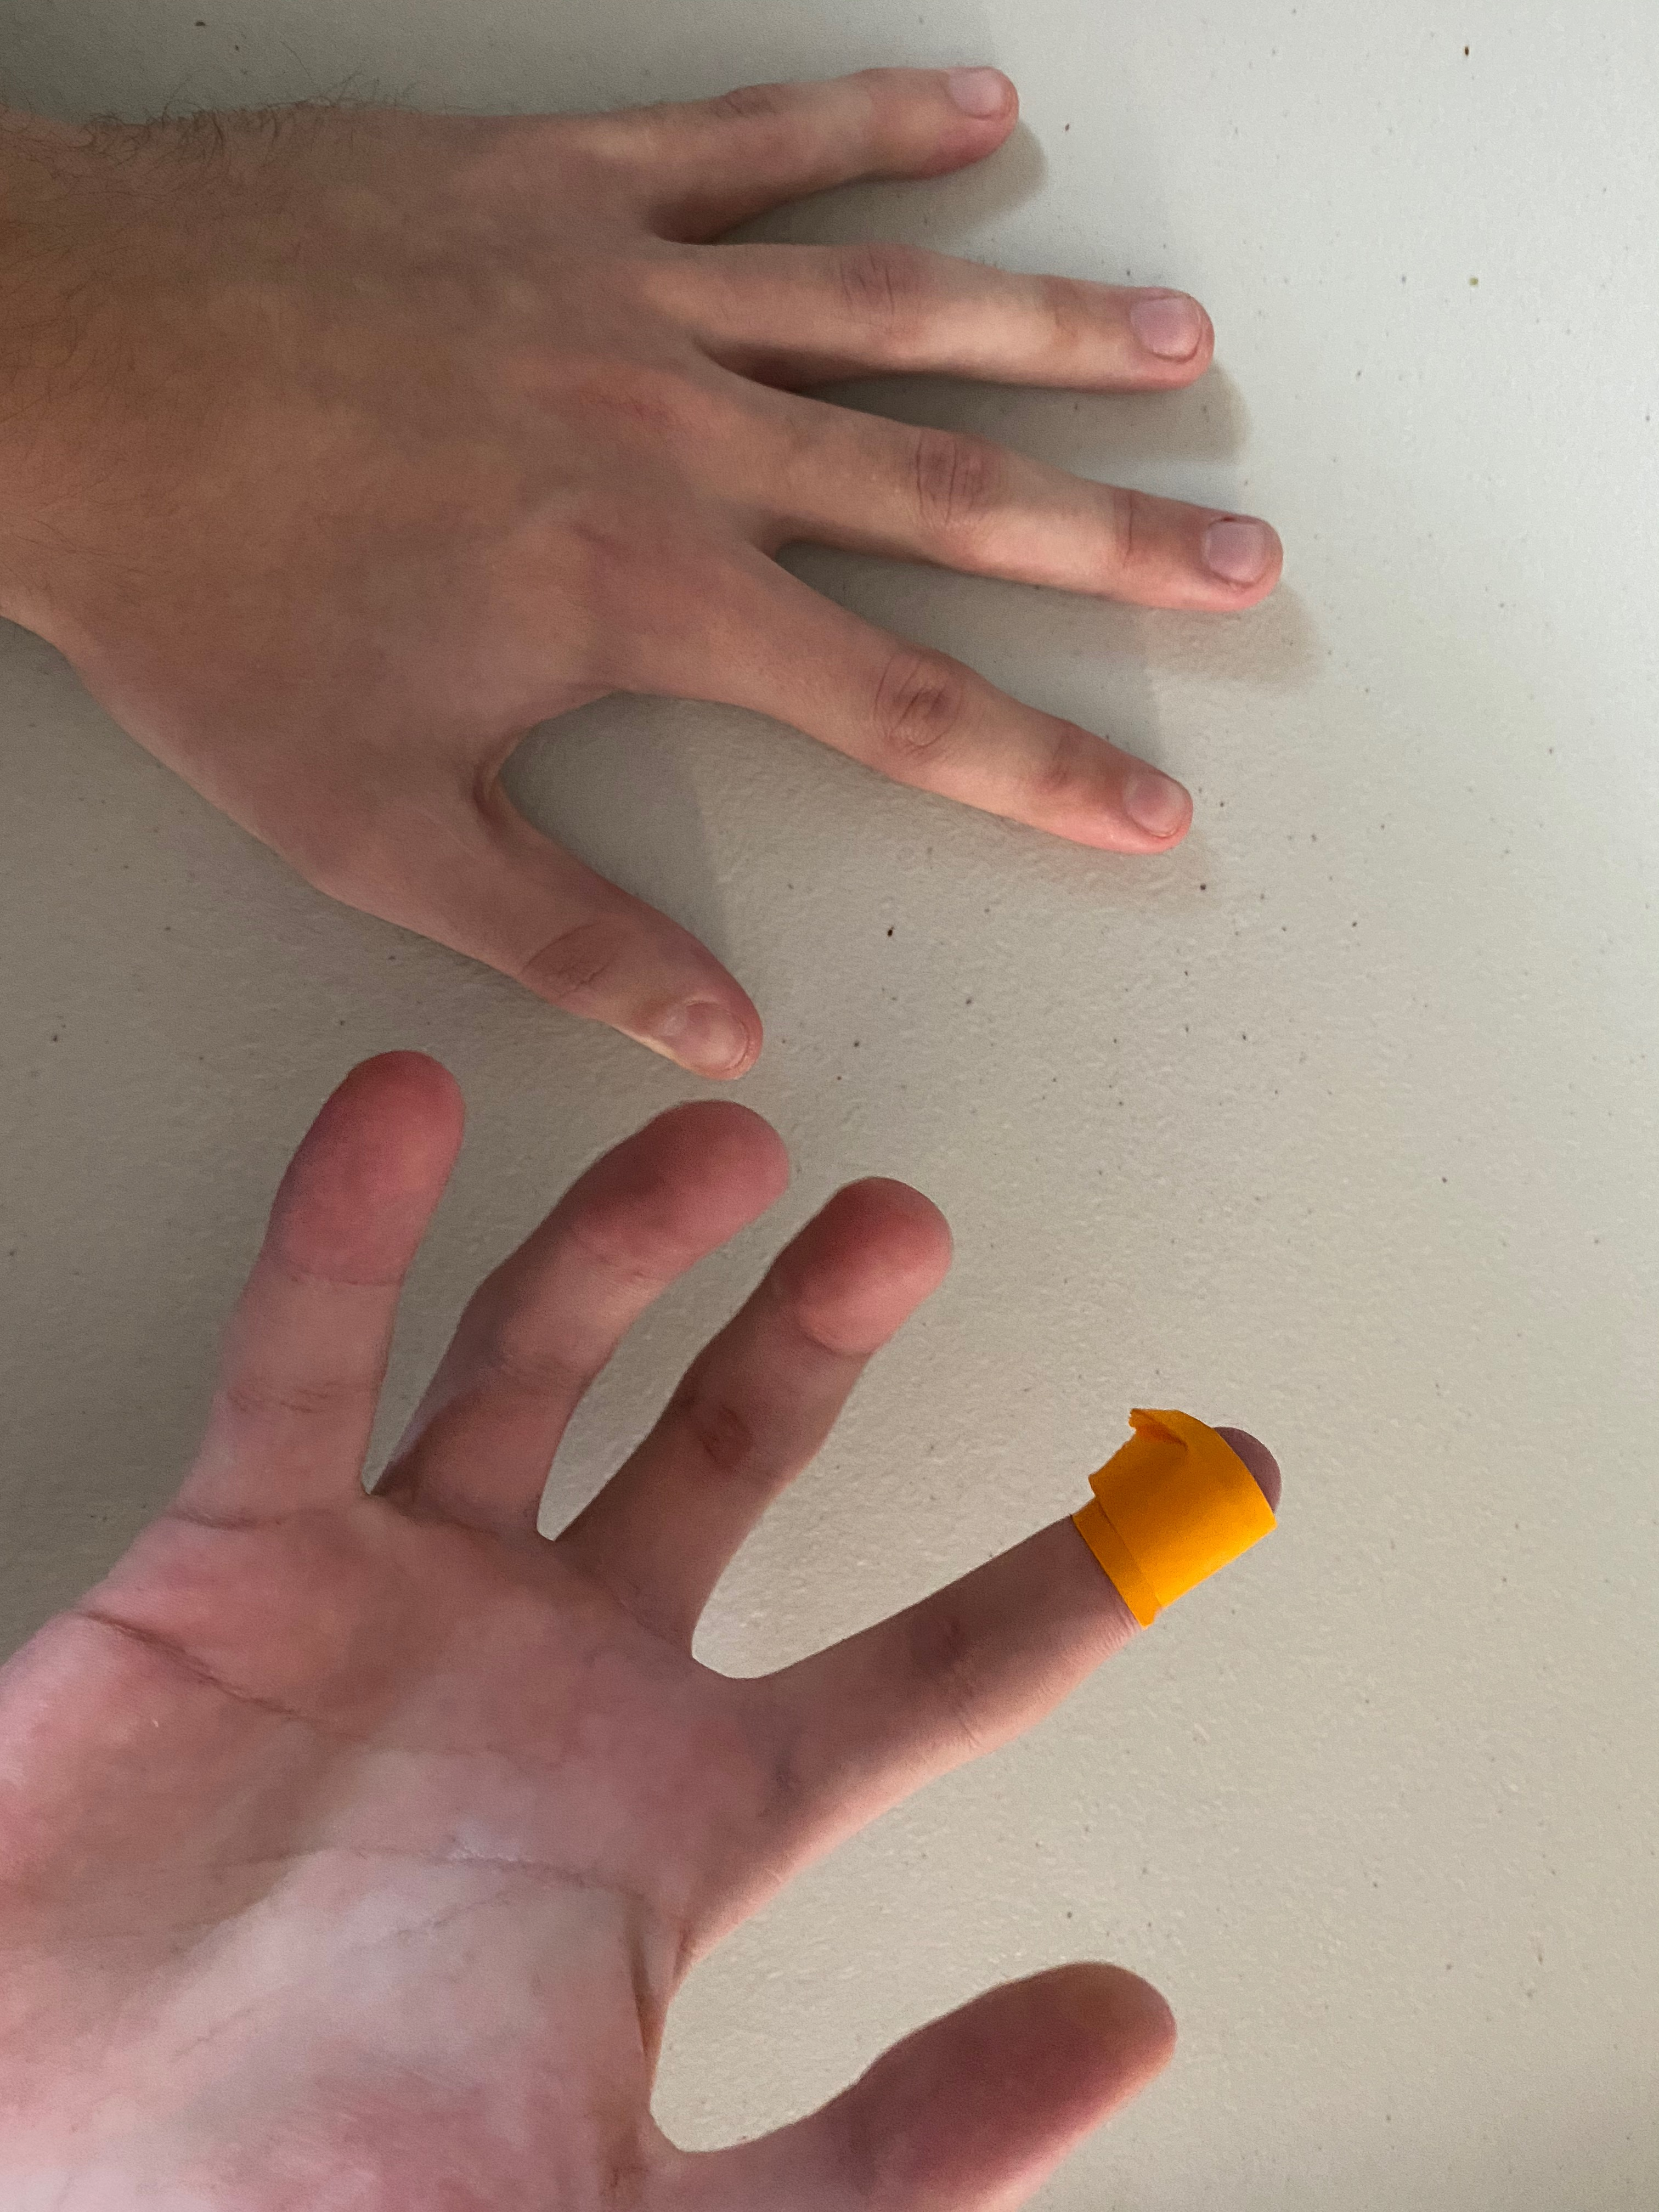fingertip: (1079, 1379, 1328, 1602)
